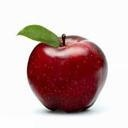apple: (27, 34, 108, 112)
